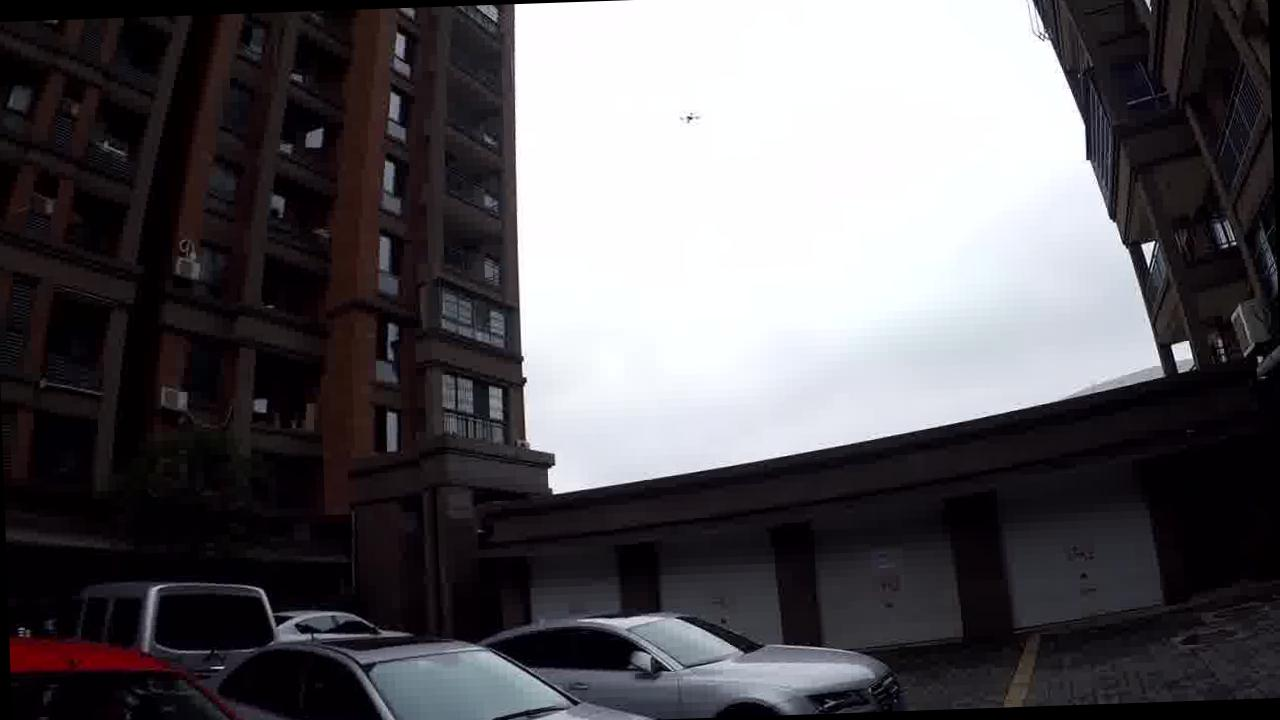drone: (660, 89, 714, 133)
